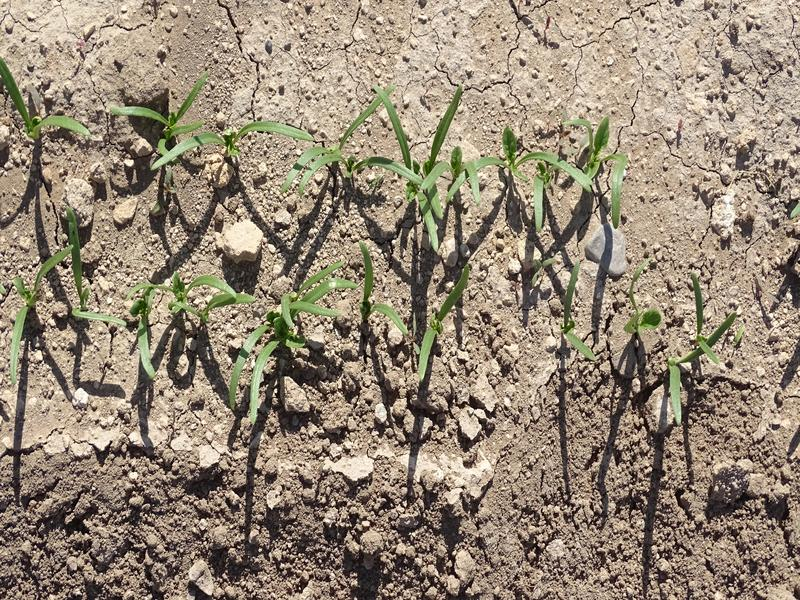Espinaca: (20, 106, 641, 241), (13, 239, 481, 418), (584, 268, 739, 426)
